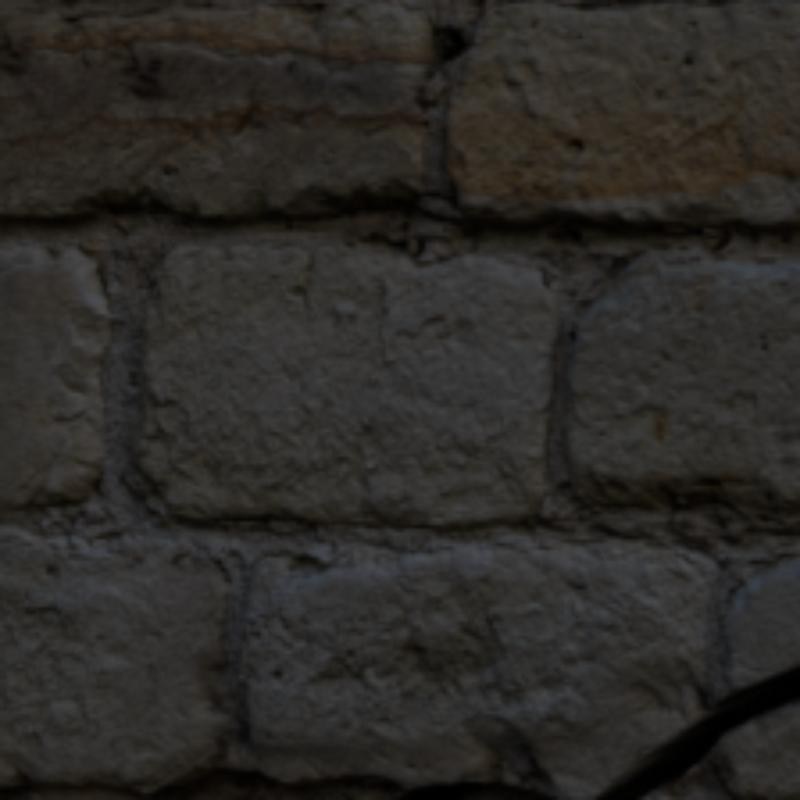crack: (596, 664, 796, 796), (150, 771, 550, 796)
